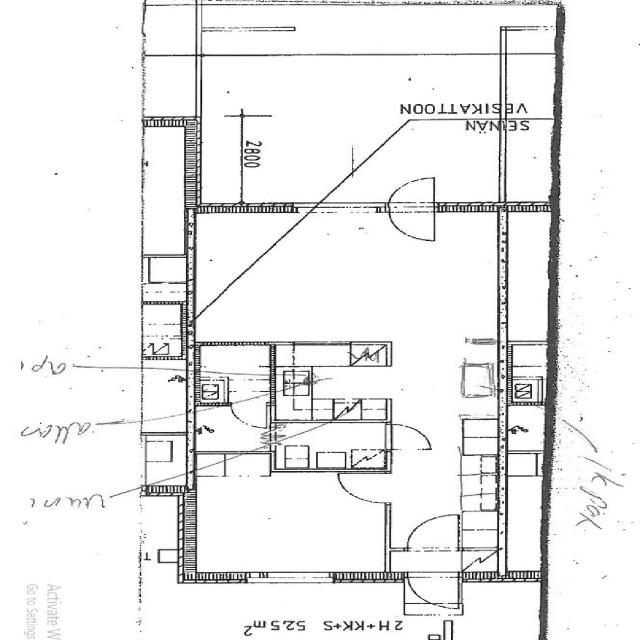door: (272, 419, 394, 472), (383, 174, 440, 244), (400, 570, 465, 610), (402, 511, 464, 552), (332, 468, 394, 505), (384, 422, 438, 453), (228, 398, 272, 430)
window: (244, 571, 342, 587)
zone: (223, 53, 388, 207), (177, 465, 389, 581), (276, 348, 398, 420), (270, 421, 390, 472), (192, 406, 273, 454), (506, 340, 550, 406), (189, 372, 274, 405), (140, 300, 186, 360), (142, 432, 194, 484), (455, 358, 495, 418), (501, 403, 549, 450), (228, 396, 273, 432), (143, 255, 192, 284), (141, 282, 191, 304)
